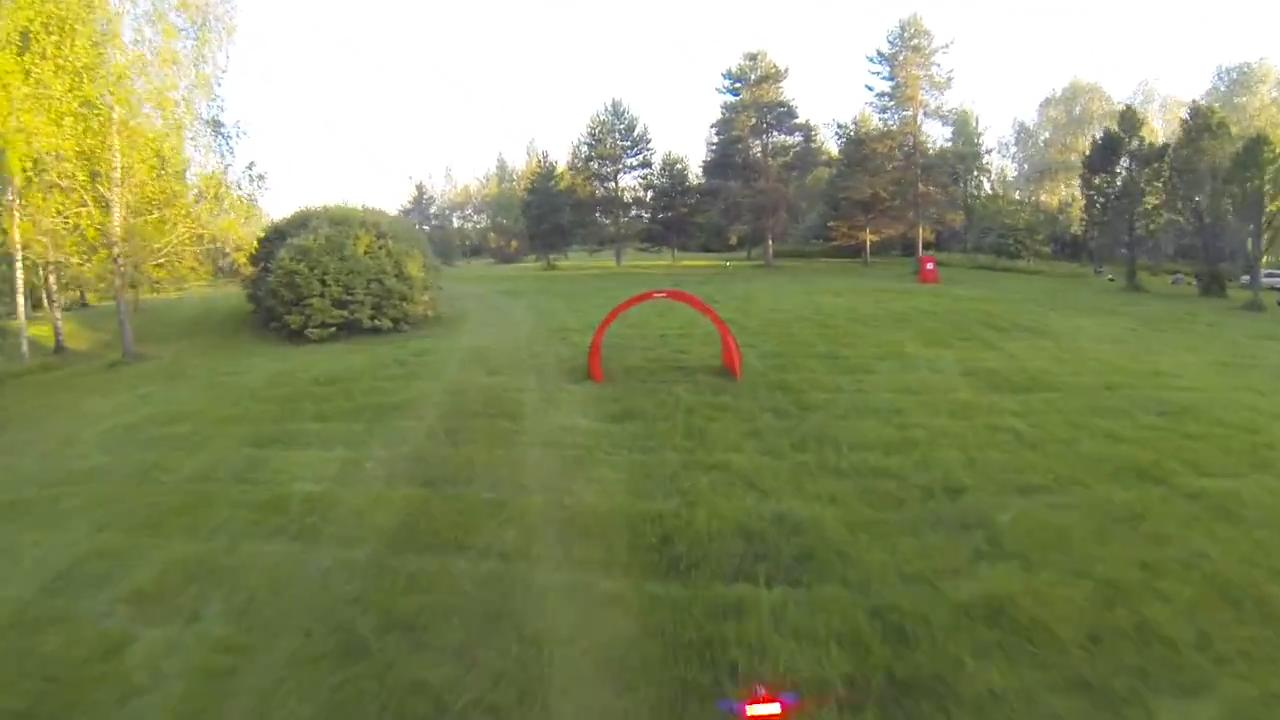gate: (585, 287, 746, 385)
